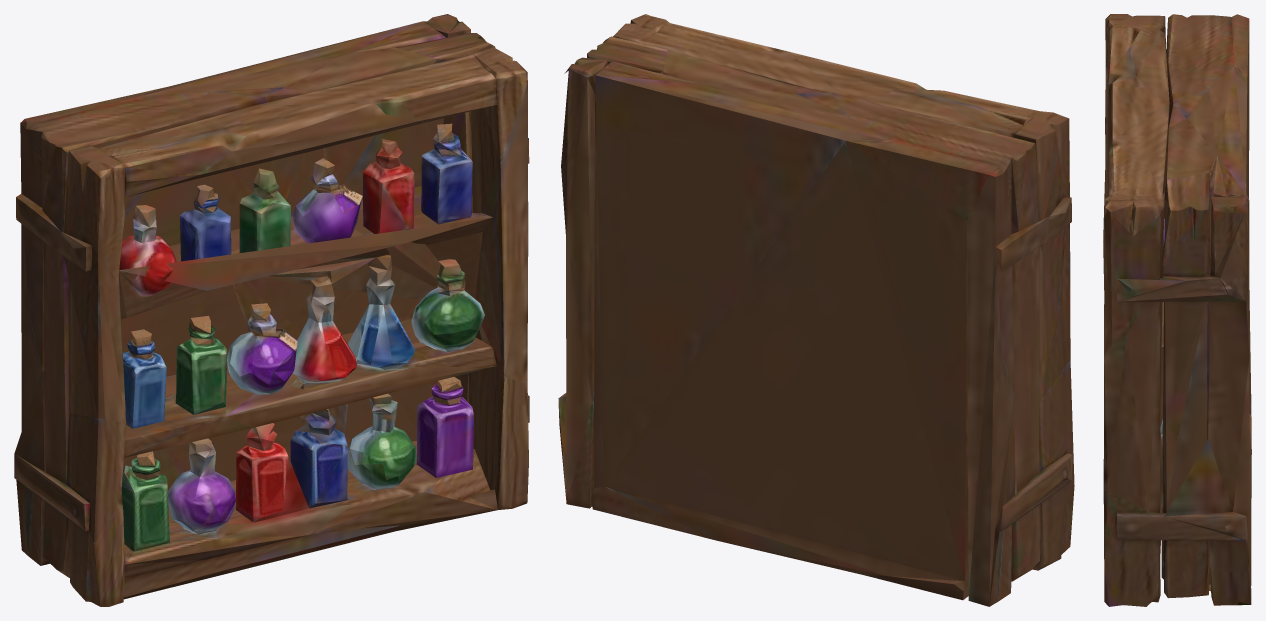
File: potion_shelf_3d.glb
3 renders of one model, left to right at view 1: azimuth 30°, elevation 25°; view 2: azimuth 150°, elevation 25°; view 3: azimuth 270°, elevation 25°, orthographic. The views are drawn at different scales.
Parts seen in each view (by area): view 1: Mesh_0; view 2: Mesh_0; view 3: Mesh_0.
Part boxes in pixels (x1,y1,x2,y2): Mesh_0: (14,14,529,606); Mesh_0: (558,14,1074,606); Mesh_0: (1103,14,1251,606).
Bounding box in the file's own units: 1.88 × 1.75 × 0.5855.
Materials: 1 (1 with a texture image).
